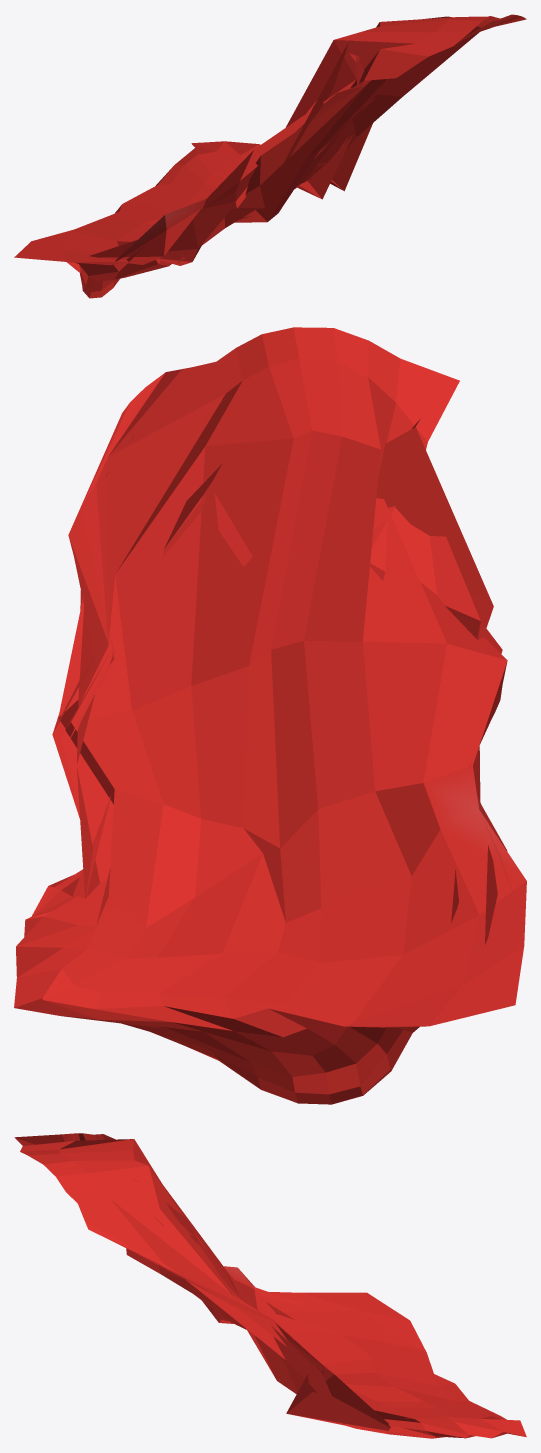
Rendered from Petal1_5.glb.
3 views of the same model, one above another, from view 1: azimuth 30°, elevation 25°; view 2: azimuth 150°, elevation 25°; view 3: azimuth 270°, elevation 25° (orthographic). The views are drawn at different scales.
Visible parts, largest first — view 1: Cube.005; view 2: Cube.005; view 3: Cube.005.
Boxes of the visible parts, x1,y1,x2,y2 form: Cube.005: (14, 14, 526, 298); Cube.005: (14, 327, 526, 1104); Cube.005: (14, 1133, 526, 1438).
Bounding box in the file's own units: 24.41 × 21.64 × 27.48.
